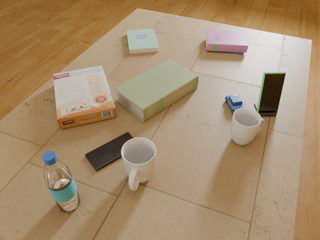book: (114, 60, 198, 122), (206, 30, 248, 53), (127, 29, 159, 54)
bottle: (42, 151, 80, 212)
box: (53, 66, 116, 129)
cup: (121, 138, 156, 191), (230, 108, 265, 145)
phone: (85, 132, 133, 171), (256, 72, 286, 113)
toy_car: (225, 95, 244, 114)
